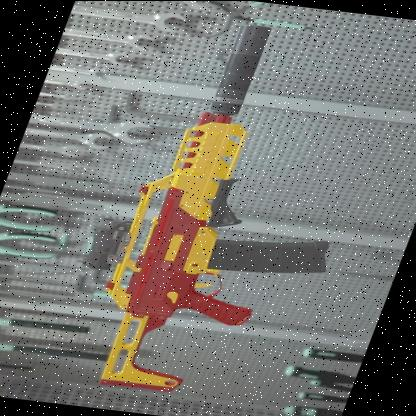rifle: (32, 13, 412, 406)
